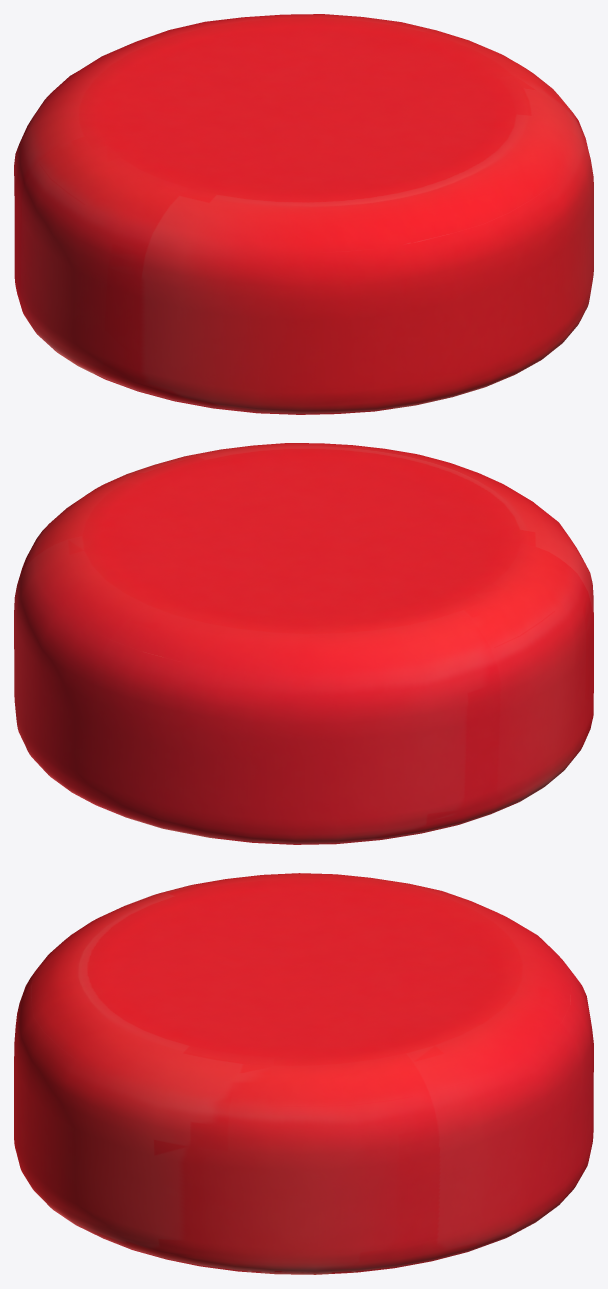
Rendered from Push button-B_texture.fbx.
3 renders of one model, top to bottom at view 1: azimuth 30°, elevation 25°; view 2: azimuth 150°, elevation 25°; view 3: azimuth 270°, elevation 25°, orthographic.
Parts seen in each view (by area): view 1: Mesh0; view 2: Mesh0; view 3: Mesh0.
Boxes of the visible parts, x1,y1,x2,y2 form: Mesh0: (14, 14, 593, 414); Mesh0: (14, 443, 593, 844); Mesh0: (14, 873, 593, 1274).
Size of the model in its own units: 191 by 69.47 by 191.
1 material, 1 textured.
